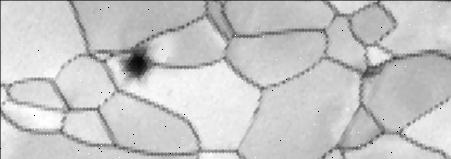good_void: (116, 39, 161, 90), (356, 62, 386, 79)
